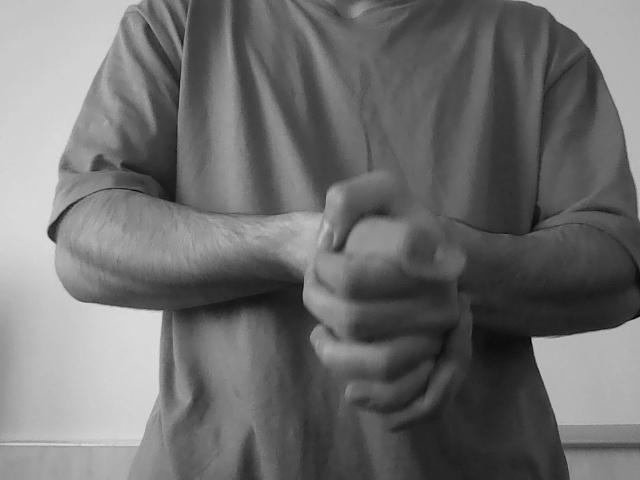friend: (306, 186, 480, 420)
